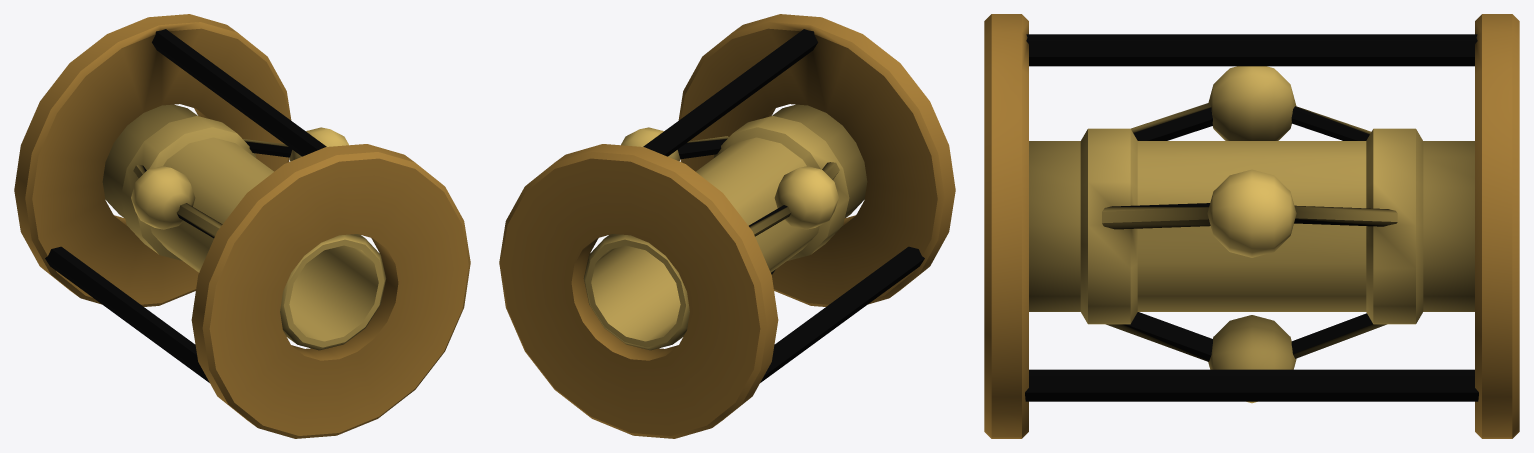
Rendered from governor_standard.glb.
3 renders of one model, left to right at view 1: azimuth 30°, elevation 25°; view 2: azimuth 150°, elevation 25°; view 3: azimuth 270°, elevation 25°, orthographic. The views are drawn at different scales.
Parts seen in each view (by area): view 1: Governor_Frame, Governor_Weights; view 2: Governor_Frame, Governor_Weights; view 3: Governor_Weights, Governor_Frame.
Part boxes in pixels (bbox=[...]): Governor_Frame: bbox=[14, 14, 470, 438]; Governor_Weights: bbox=[102, 104, 386, 350]; Governor_Frame: bbox=[499, 14, 955, 438]; Governor_Weights: bbox=[583, 104, 867, 350]; Governor_Weights: bbox=[1029, 66, 1474, 403]; Governor_Frame: bbox=[984, 14, 1519, 438].
Size of the model in its own units: 0.024 by 0.024 by 0.03.
